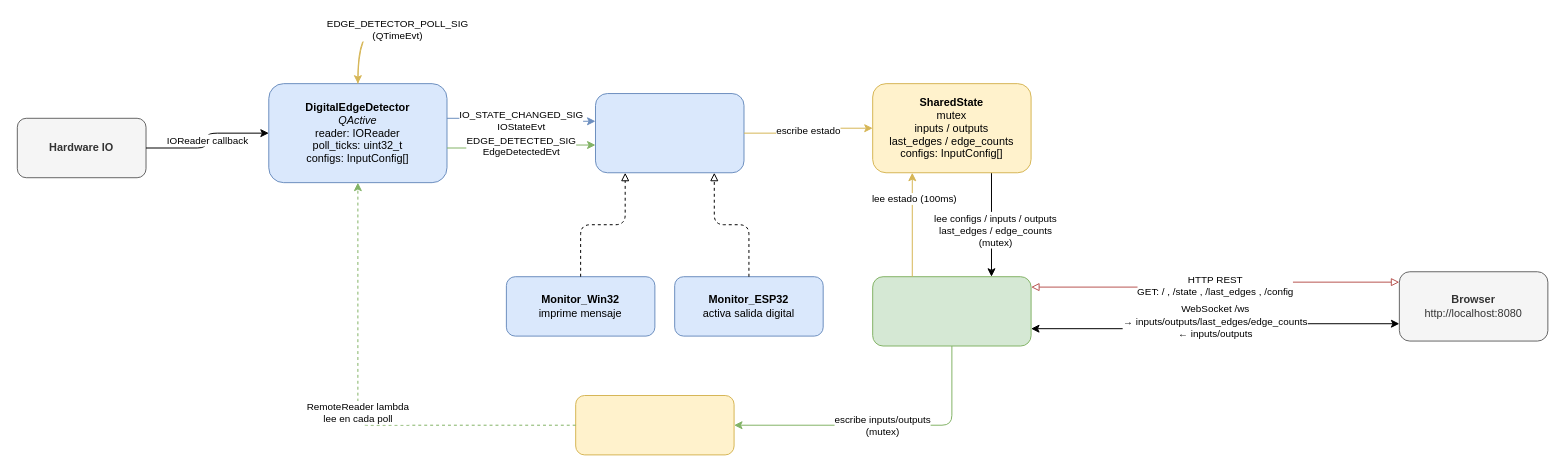
Image size: 1565x472. Some labels were removed from this diagram. Here are the shapes that lost their labels. From the top down, the centre of each, then its label:
At pixel 669 133: "Monitor QActive".
At pixel 951 311: "HttpServer thread Mongoose :8080".
At pixel 654 425: "g_remoteState mutex inputs / outputs".
